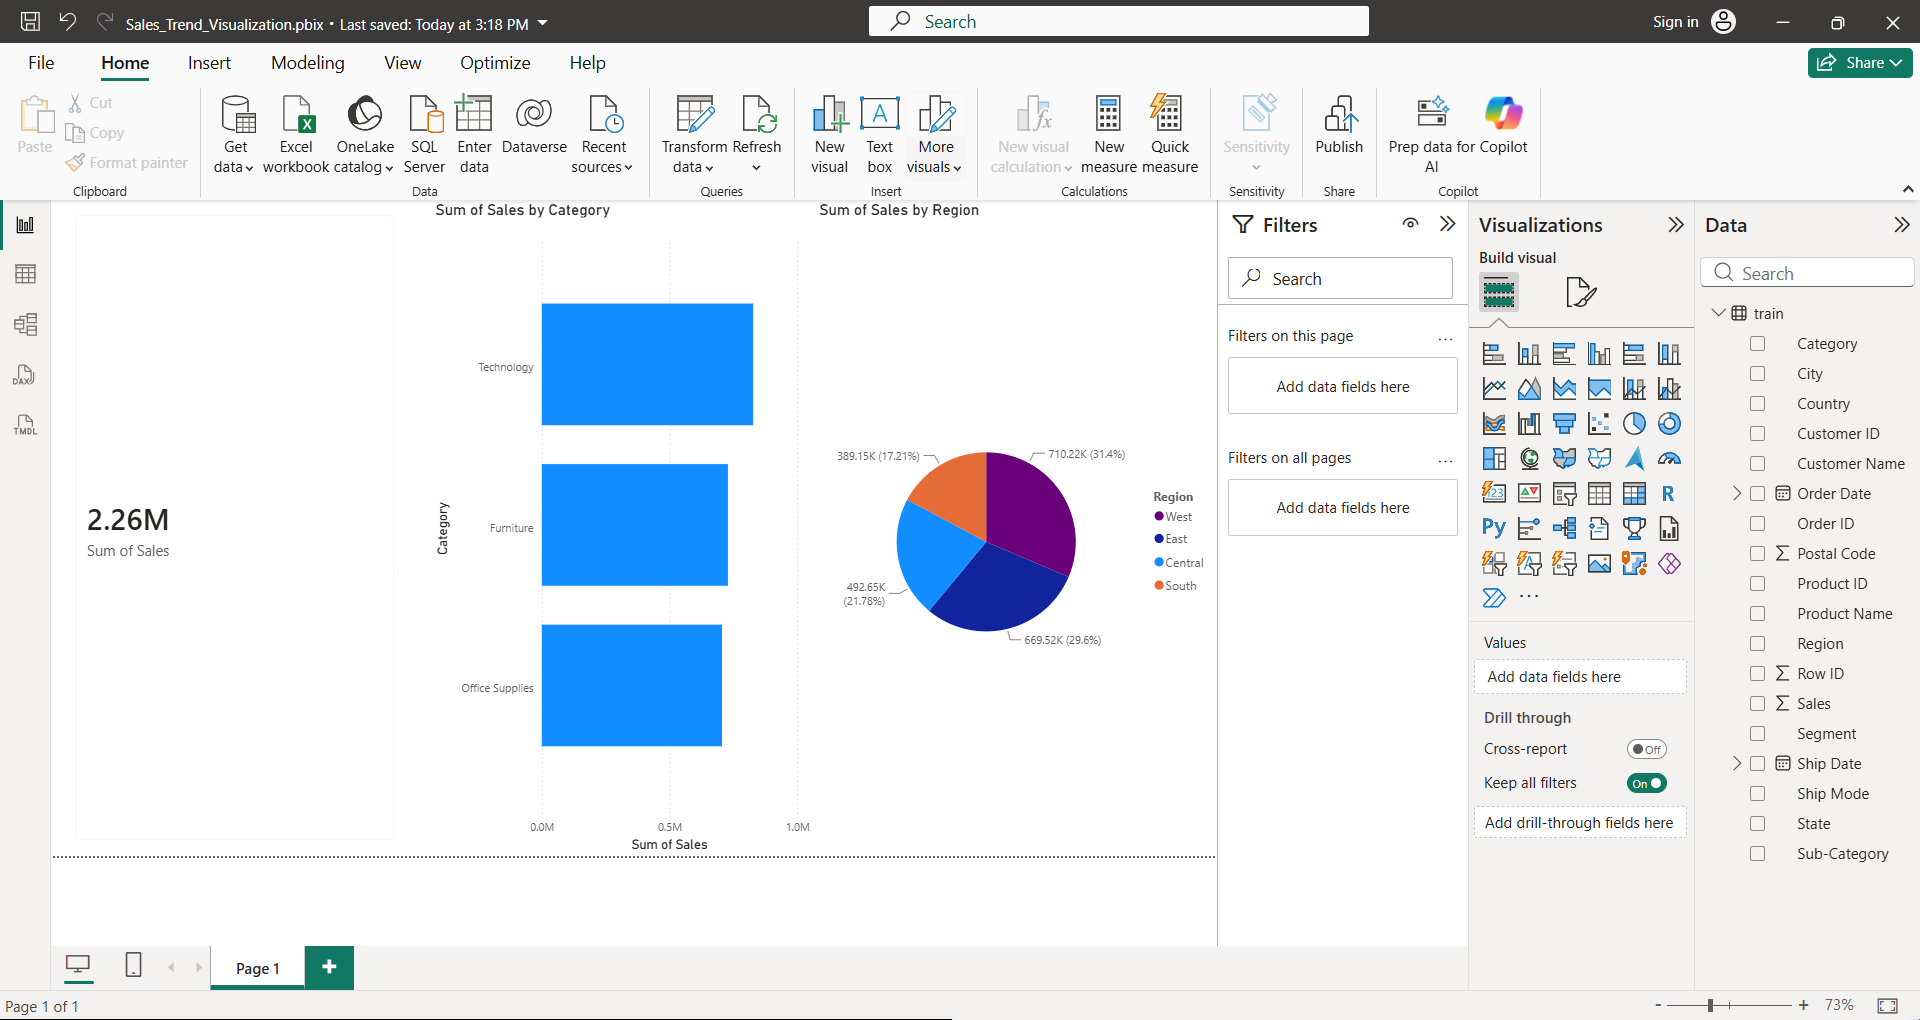

What the dashboard file says about the page in this screenshot:
{"tool":"powerbi","page":{"name":"Page 1","canvas":[1280,720],"ordinal":0},"visuals":[{"type":"cardVisual","fields":{"Data":["Sum(train.Sales)"]},"box":[9.6,0,384.2,720.4],"z":2},{"type":"barChart","fields":{"Y":["Sum(train.Sales)"],"Category":["train.Category"]},"box":[417.2,0,421.3,720.4],"z":3},{"type":"pieChart","fields":{"Category":["train.Region"],"Y":["Sum(train.Sales)"]},"box":[838.4,0,441.9,720.4],"z":4}]}

Visuals, with their boxes on the page's 1280x720 design canvas (x1, y1, x2, y2). These are canvas units, not pixel positions in the 1920x1020 screenshot, which may show the page scaled, cropped or inside an application window:
cardVisual - Sum(train.Sales): x1=10, y1=0, x2=394, y2=720
barChart - Sum(train.Sales) x train.Category: x1=417, y1=0, x2=838, y2=720
pieChart - train.Region x Sum(train.Sales): x1=838, y1=0, x2=1280, y2=720
